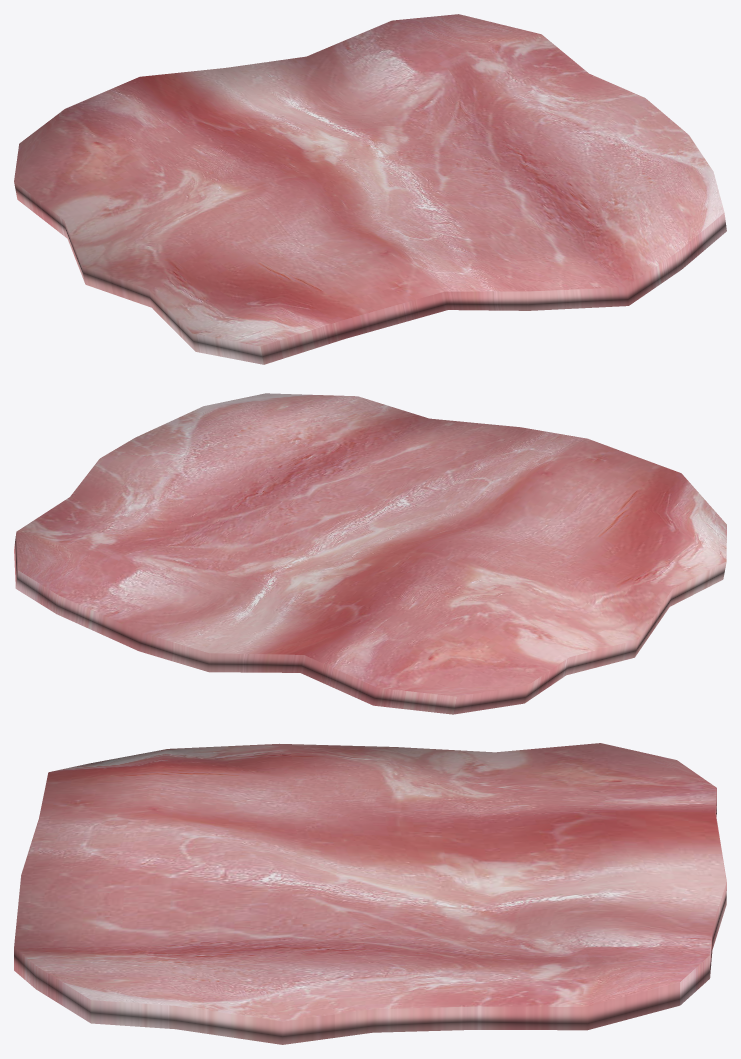
Rendered from ham.fbx.
The picture shows the model from 3 angles, top to bottom: view 1: azimuth 30°, elevation 25°; view 2: azimuth 150°, elevation 25°; view 3: azimuth 270°, elevation 25°; orthographic projection. The views are drawn at different scales.
Visible parts, largest first — view 1: ham; view 2: ham; view 3: ham.
Boxes of the visible parts, <box> form: ham: <box>14,14,726,364</box>; ham: <box>14,393,726,714</box>; ham: <box>14,743,726,1044</box>.
Bounding box in the file's own units: 11.97 × 1.27 × 11.55.
1 material, 1 textured.
